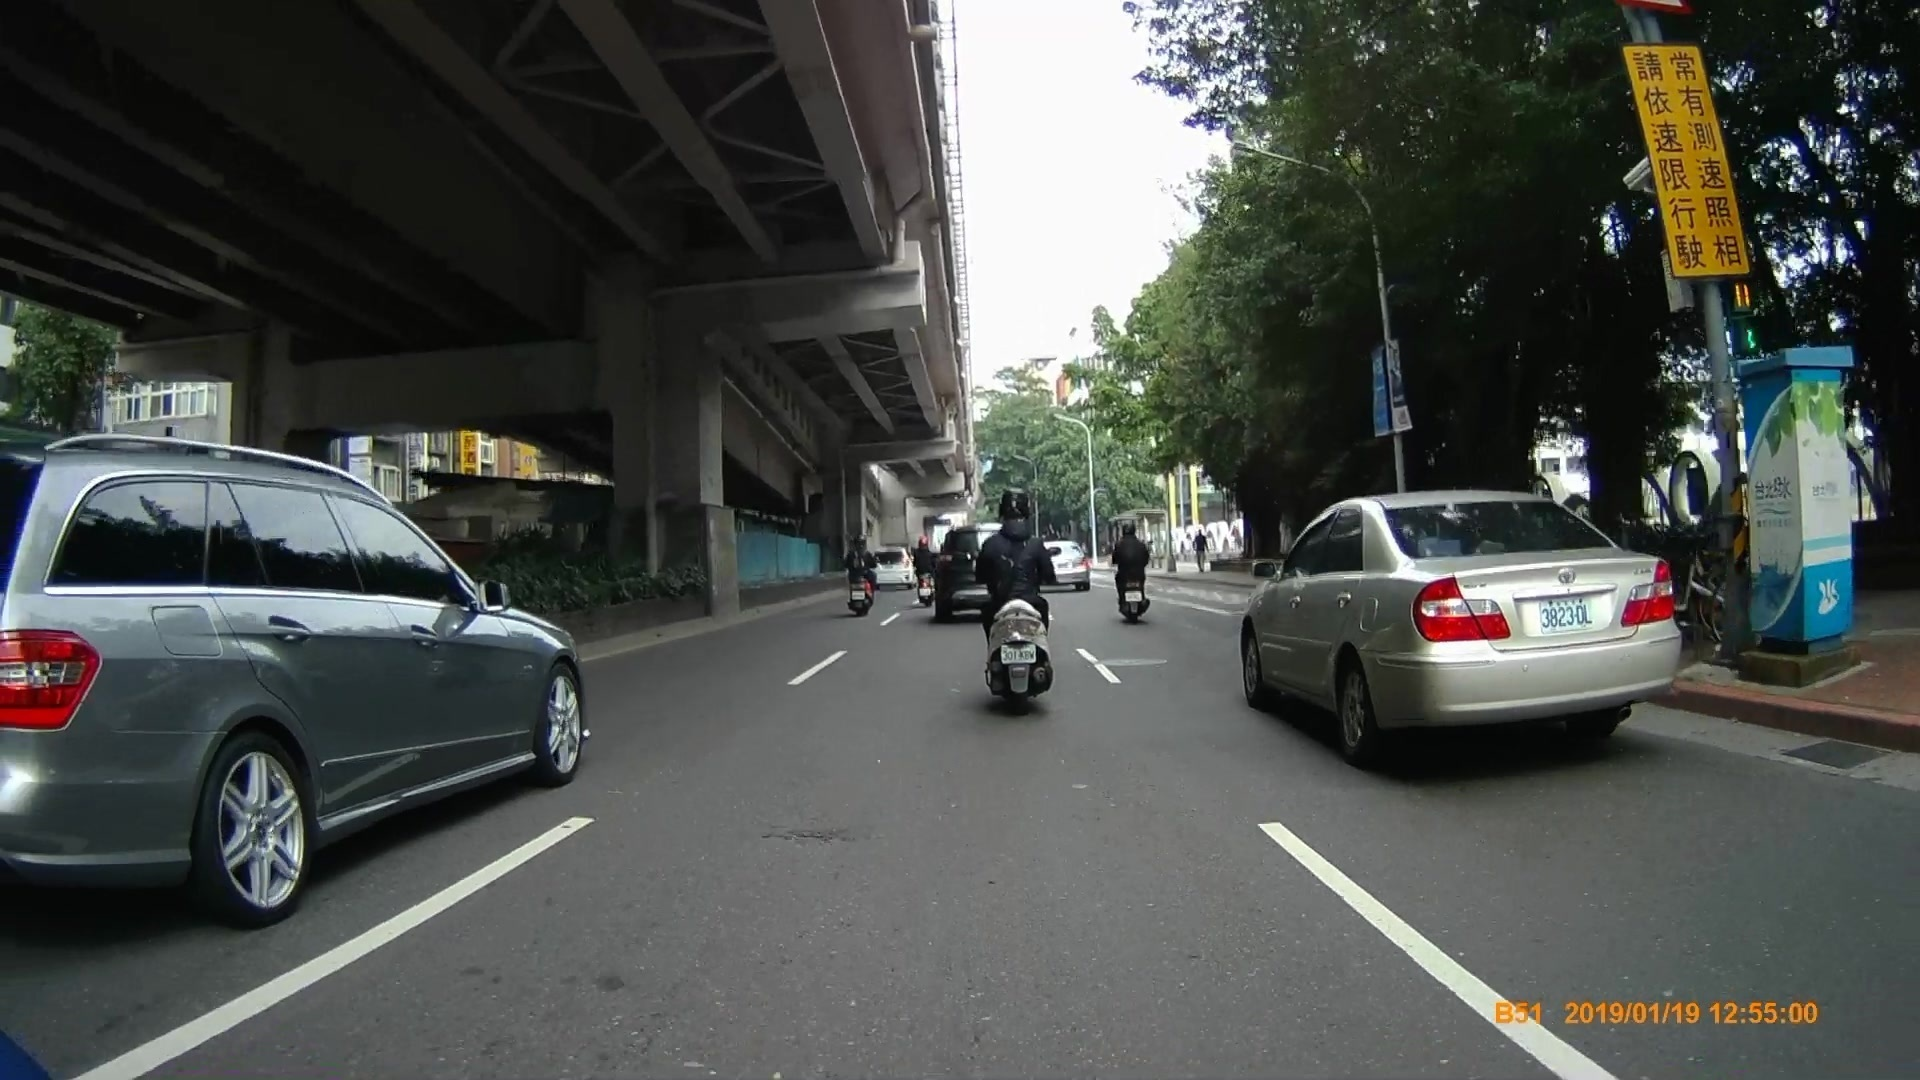License_plate: (1541, 601, 1593, 633), (999, 641, 1038, 666)
